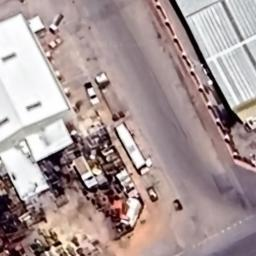sedan: (146, 184, 158, 204), (48, 38, 66, 50)
truck: (114, 119, 154, 178), (70, 156, 100, 190)
van: (83, 80, 101, 108)
